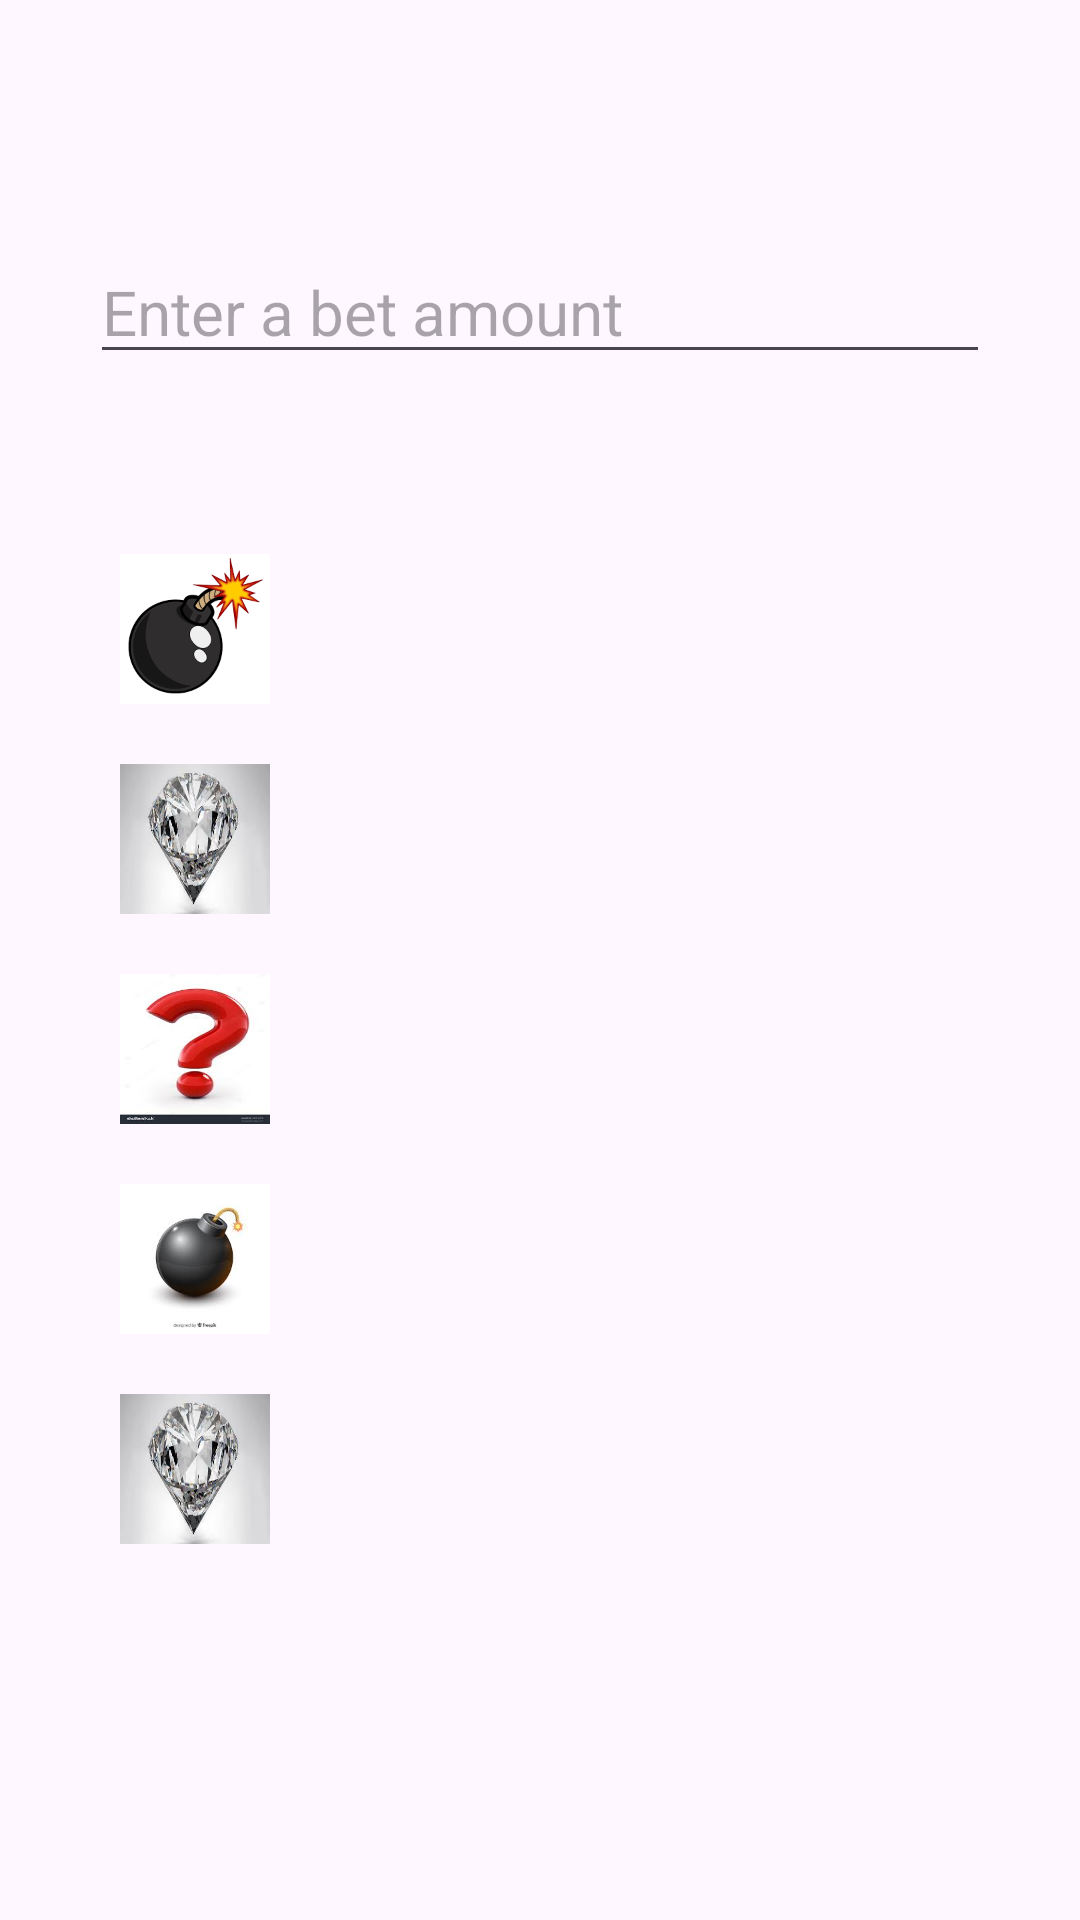

Named icons in this screenshot (1080*1920) and their centers, (x=x, y=y):
diamond: (x=195, y=839), (x=195, y=1469)
